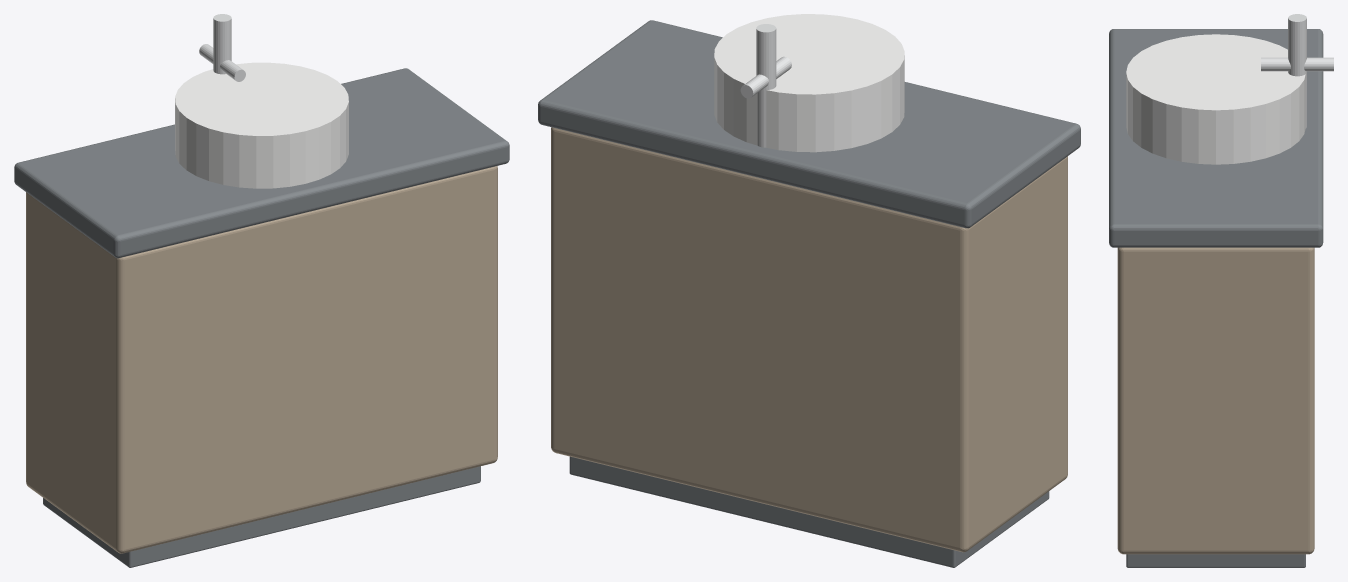
Rendered from basin.glb.
3 renders of one model, left to right at view 1: azimuth 30°, elevation 25°; view 2: azimuth 150°, elevation 25°; view 3: azimuth 270°, elevation 25°, orthographic. The views are drawn at different scales.
Parts seen in each view (by area): view 1: basin_1, basin_0, basin_3, basin_4; view 2: basin_1, basin_0, basin_3, basin_4; view 3: basin_1, basin_0, basin_3, basin_4.
Part boxes in pixels (x1,y1,x2,y2): basin_1: [26, 166, 497, 553]; basin_0: [14, 68, 509, 567]; basin_3: [175, 62, 348, 188]; basin_4: [199, 14, 245, 81]; basin_1: [551, 127, 1067, 552]; basin_0: [538, 20, 1080, 567]; basin_3: [714, 14, 904, 152]; basin_4: [740, 24, 791, 147]; basin_1: [1117, 247, 1314, 554]; basin_0: [1109, 29, 1323, 567]; basin_3: [1126, 34, 1305, 164]; basin_4: [1261, 14, 1333, 128].
Bounding box in the file's own units: 1.1 × 1.19 × 0.525.
